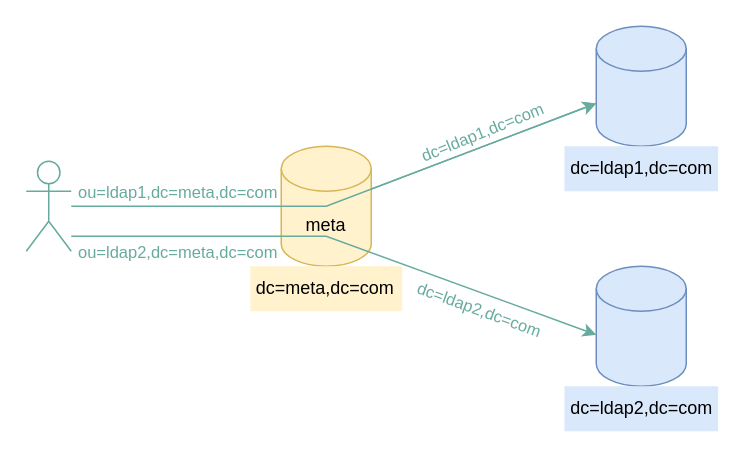
Some shapes in this 744 by 458 pixel diagram are drawn without their labels. Here are the shapes that lost their labels. From the top down, the centre of each, then its label:
At (640,85): "directory1".
At (640,325): "directory2".
